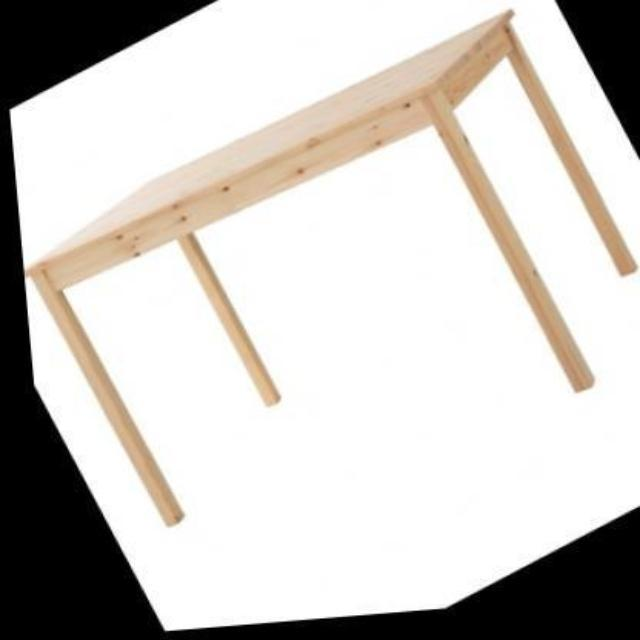table: (33, 17, 600, 523)
